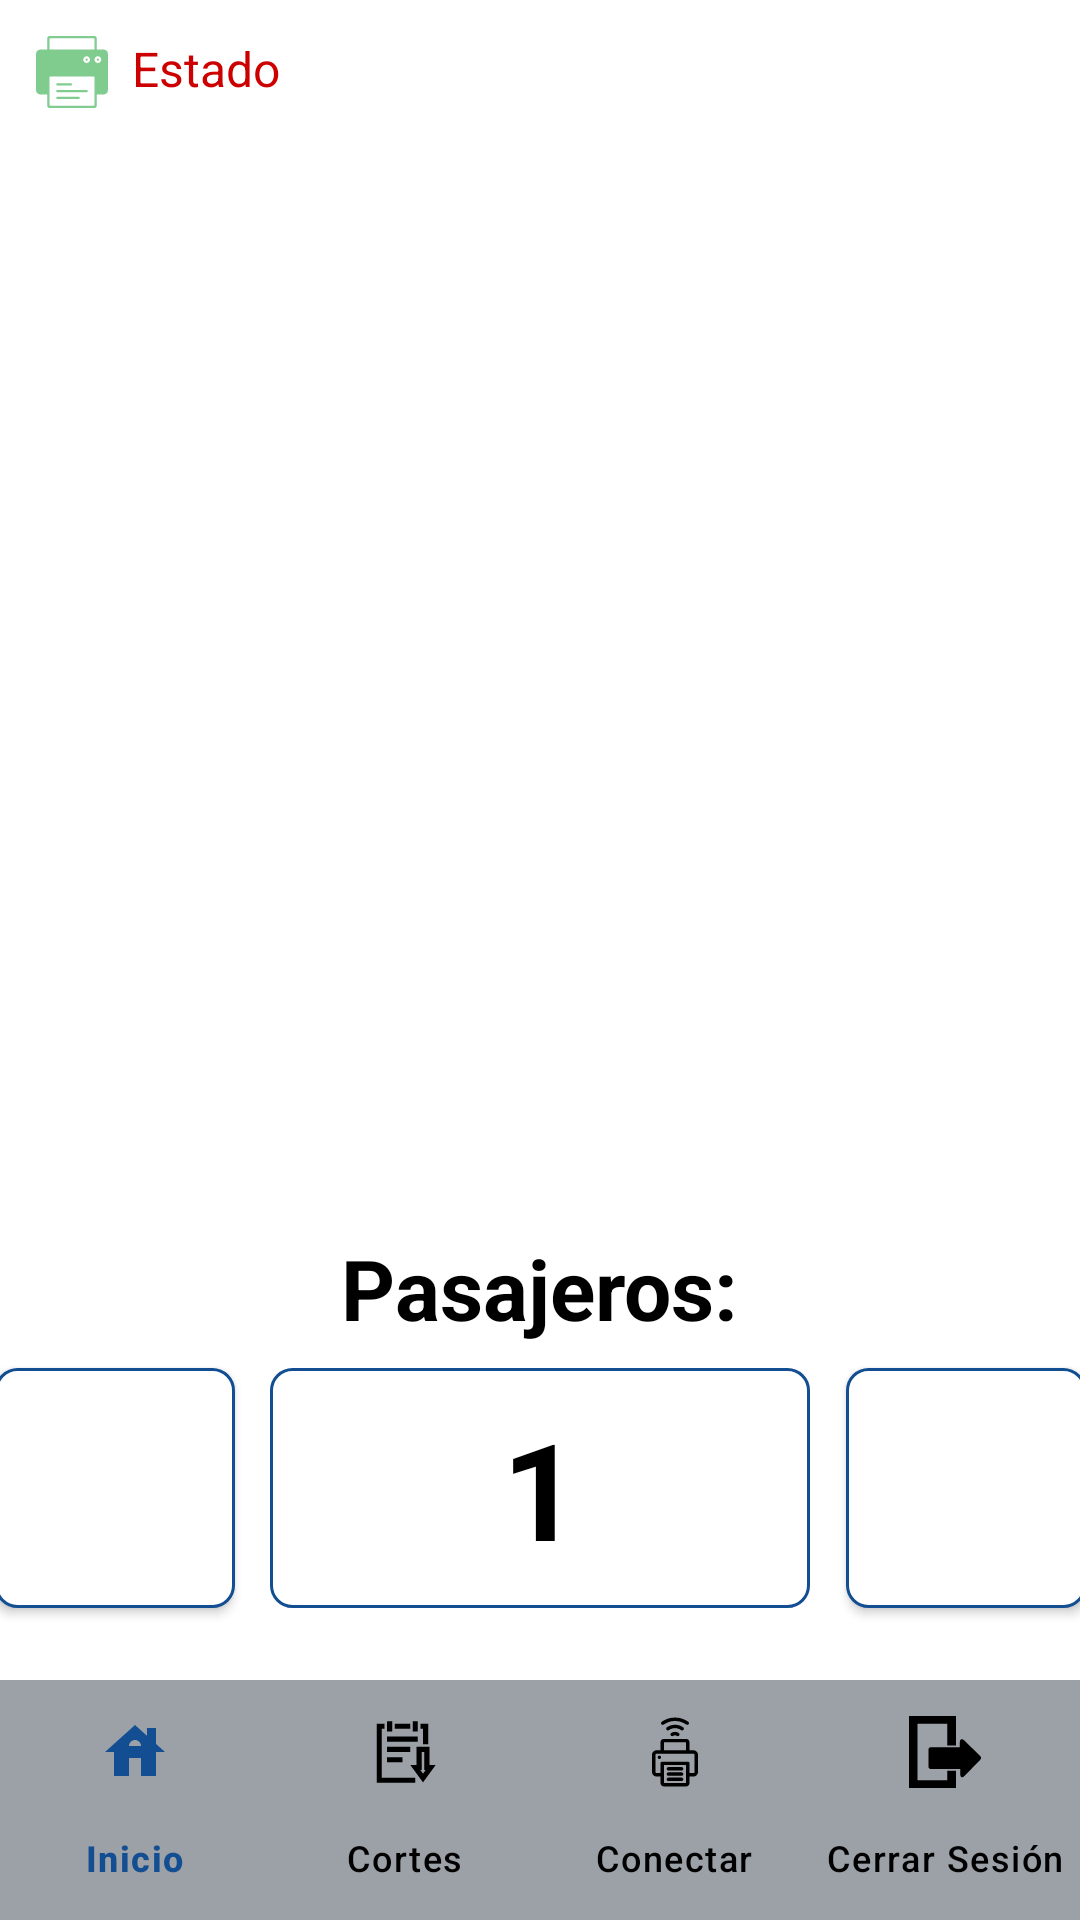

Icon bounding boxes for this 1080*1920 phone screenshot, format (x1, y1, x2, y2):
print conected: (36, 36, 108, 108)
